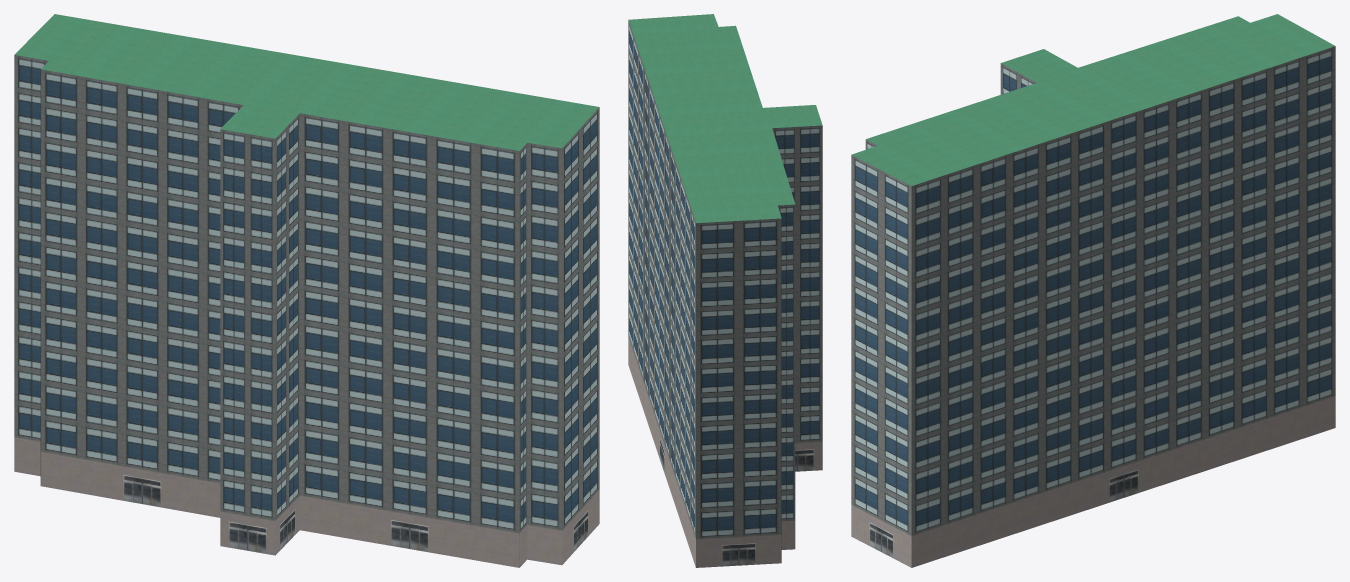
The picture shows the model from 3 angles, left to right: view 1: azimuth 30°, elevation 25°; view 2: azimuth 150°, elevation 25°; view 3: azimuth 270°, elevation 25°; orthographic projection. The views are drawn at different scales.
Parts seen in each view (by area): view 1: BuildingMaster_1971194222234464368300000000_0, BuildingMaster_1971194222234464368300000000_1; view 2: BuildingMaster_1971194222234464368300000000_0, BuildingMaster_1971194222234464368300000000_1; view 3: BuildingMaster_1971194222234464368300000000_0, BuildingMaster_1971194222234464368300000000_1.
Part boxes in pixels (<box>): BuildingMaster_1971194222234464368300000000_0: <box>14,55,599,567</box>; BuildingMaster_1971194222234464368300000000_1: <box>14,14,599,150</box>; BuildingMaster_1971194222234464368300000000_0: <box>628,20,822,567</box>; BuildingMaster_1971194222234464368300000000_1: <box>628,14,822,223</box>; BuildingMaster_1971194222234464368300000000_0: <box>851,46,1335,567</box>; BuildingMaster_1971194222234464368300000000_1: <box>851,14,1335,185</box>.
Size of the model in its own units: 40.63 by 42 by 48.31.
2 materials, 2 textured.
